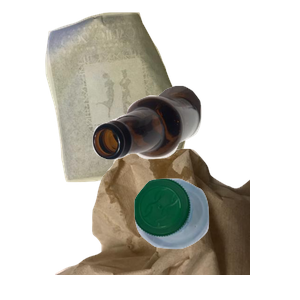glass: (90, 83, 300, 235)
paper: (43, 10, 221, 185)
plastic: (132, 176, 300, 300)
trash: (52, 120, 292, 300)
